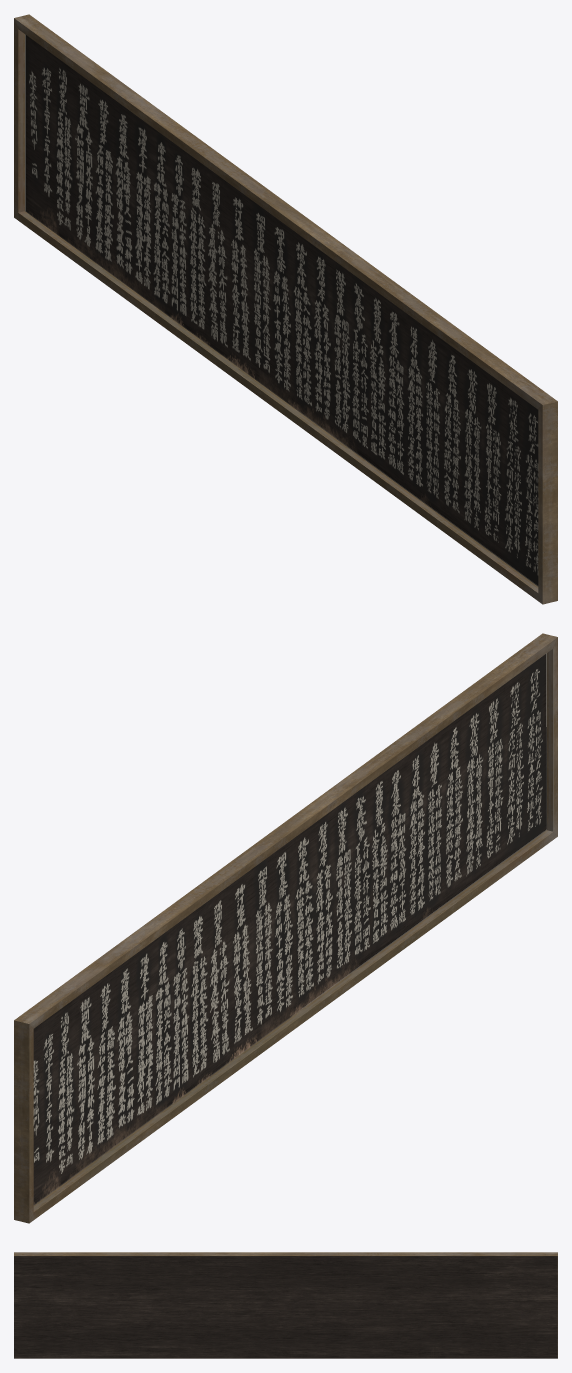
Rendered from SM_JWD_Tablet02b.fbx.
The picture shows the model from 3 angles, top to bottom: view 1: azimuth 30°, elevation 25°; view 2: azimuth 150°, elevation 25°; view 3: azimuth 270°, elevation 25°; orthographic projection. The views are drawn at different scales.
Visible parts, largest first — view 1: SM_JWD_Tablet02b; view 2: SM_JWD_Tablet02b; view 3: SM_JWD_Tablet02b.
Boxes of the visible parts, x1,y1,x2,y2 form: SM_JWD_Tablet02b: (14,14,557,604); SM_JWD_Tablet02b: (14,633,557,1223); SM_JWD_Tablet02b: (14,1252,557,1358).
Size of the model in its own units: 4 by 240 by 50.
1 material, 1 textured.
